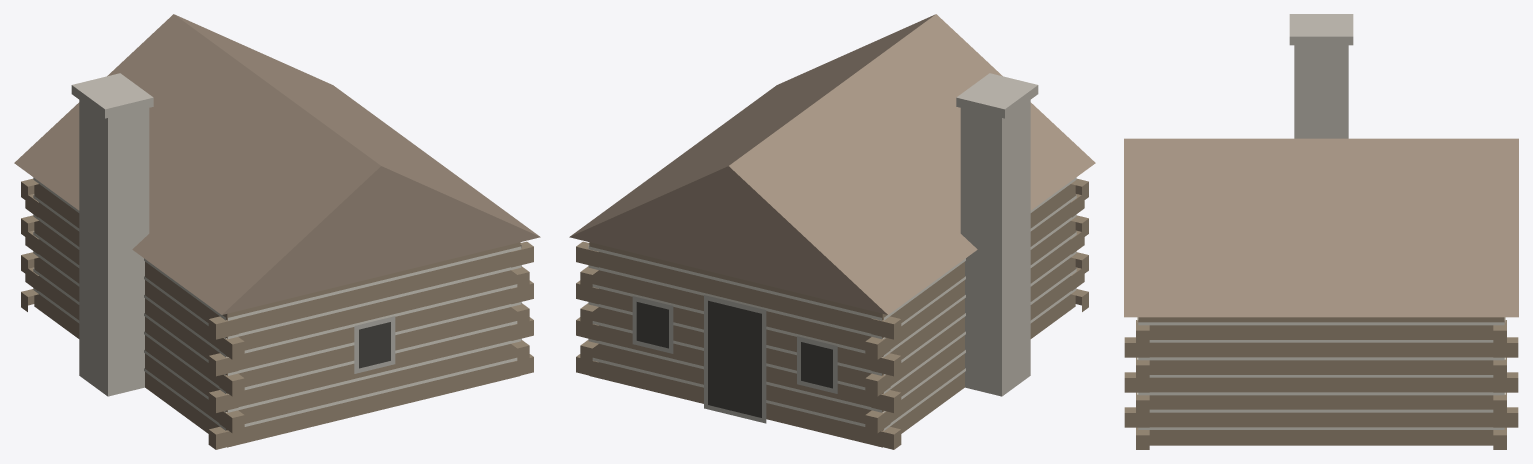
The model's file is recon_1835_blk_south_water_franklin_d1_04__inferred_1835.glb.
3 views of the same model, side by side, from view 1: azimuth 30°, elevation 25°; view 2: azimuth 150°, elevation 25°; view 3: azimuth 270°, elevation 25° (orthographic). The views are drawn at different scales.
Parts seen in each view (by area): view 1: recon_1835_blk_south_water_franklin_d1_04__inferred_1835; view 2: recon_1835_blk_south_water_franklin_d1_04__inferred_1835; view 3: recon_1835_blk_south_water_franklin_d1_04__inferred_1835.
Boxes of the visible parts, bbox=[...] form: recon_1835_blk_south_water_franklin_d1_04__inferred_1835: bbox=[14, 14, 540, 449]; recon_1835_blk_south_water_franklin_d1_04__inferred_1835: bbox=[569, 14, 1095, 449]; recon_1835_blk_south_water_franklin_d1_04__inferred_1835: bbox=[1124, 14, 1518, 449].
Bounding box in the file's own units: 6.75 × 5.43 × 6.96.
